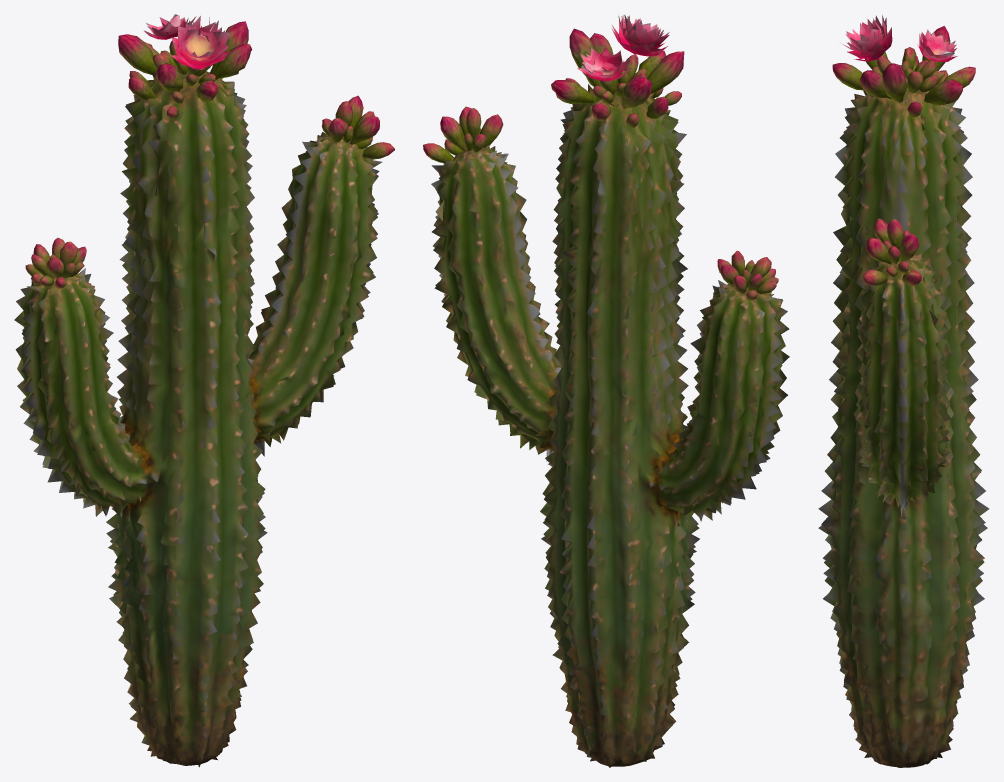
The model's file is desert_0.glb.
3 views of the same model, side by side, from view 1: azimuth 30°, elevation 25°; view 2: azimuth 150°, elevation 25°; view 3: azimuth 270°, elevation 25° (orthographic).
Parts seen in each view (by area): view 1: geometry_0; view 2: geometry_0; view 3: geometry_0.
Part boxes in pixels (bbox=[...]): geometry_0: bbox=[14, 14, 394, 767]; geometry_0: bbox=[423, 15, 789, 767]; geometry_0: bbox=[818, 15, 989, 767].
Bounding box in the file's own units: 0.481 × 0.9512 × 0.2002.
1 material, 1 textured.
